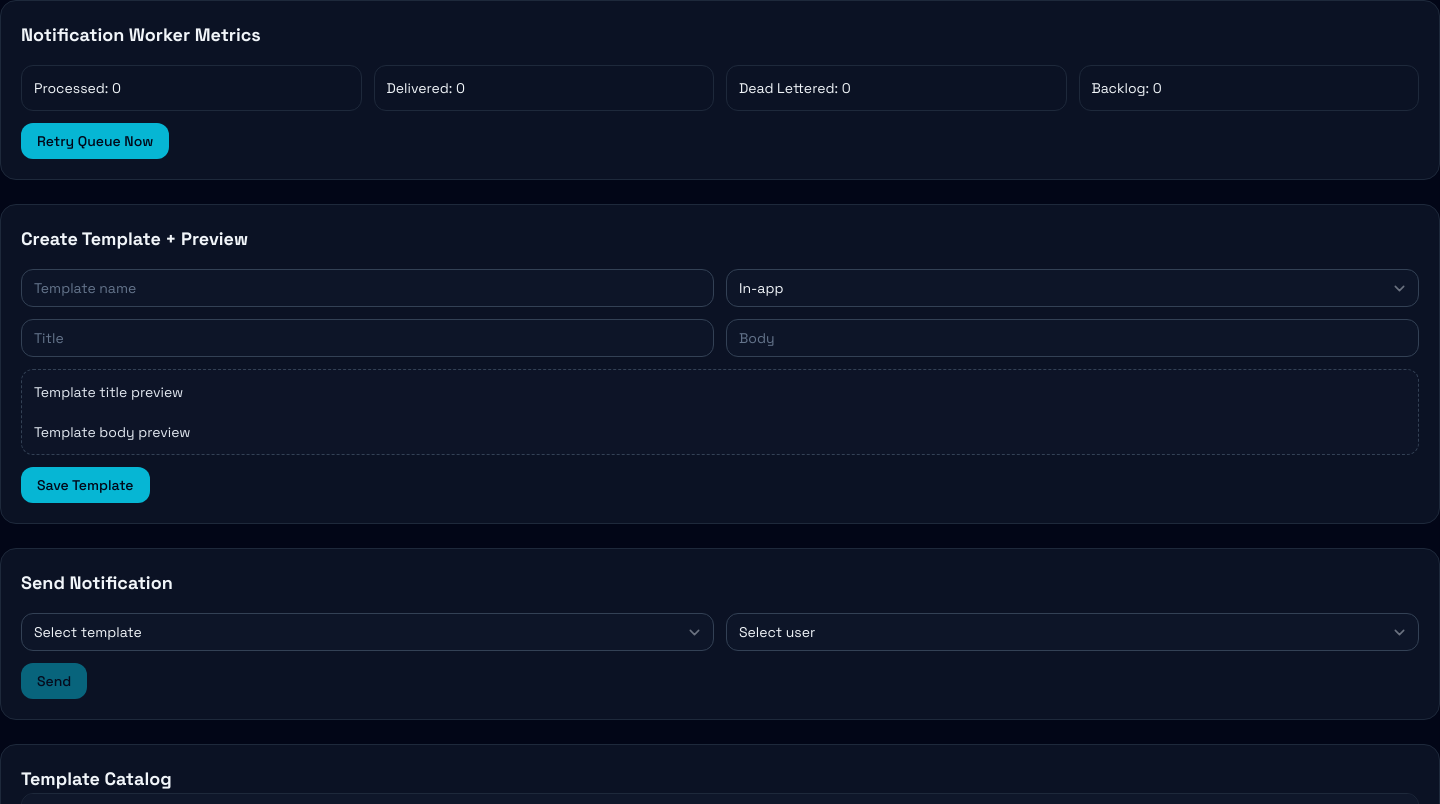
Scenario: AdminNotificationsPage › template preview updates as you type
In the field with placeholder "Title": [368, 338] box [21,319,714,357], type "My Title"
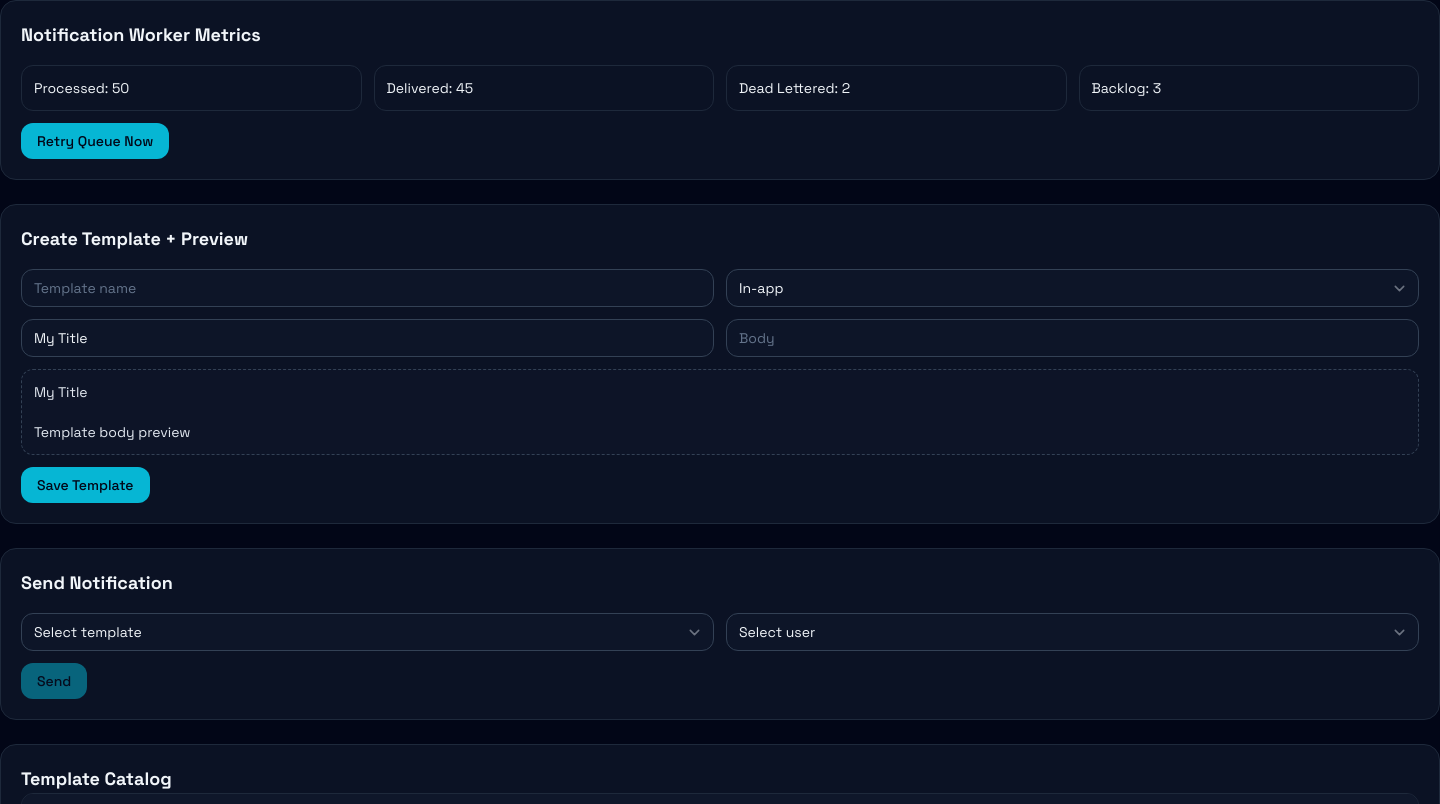
Check: the text "My Title Template body preview" is shown, box [21,369,1419,455]
